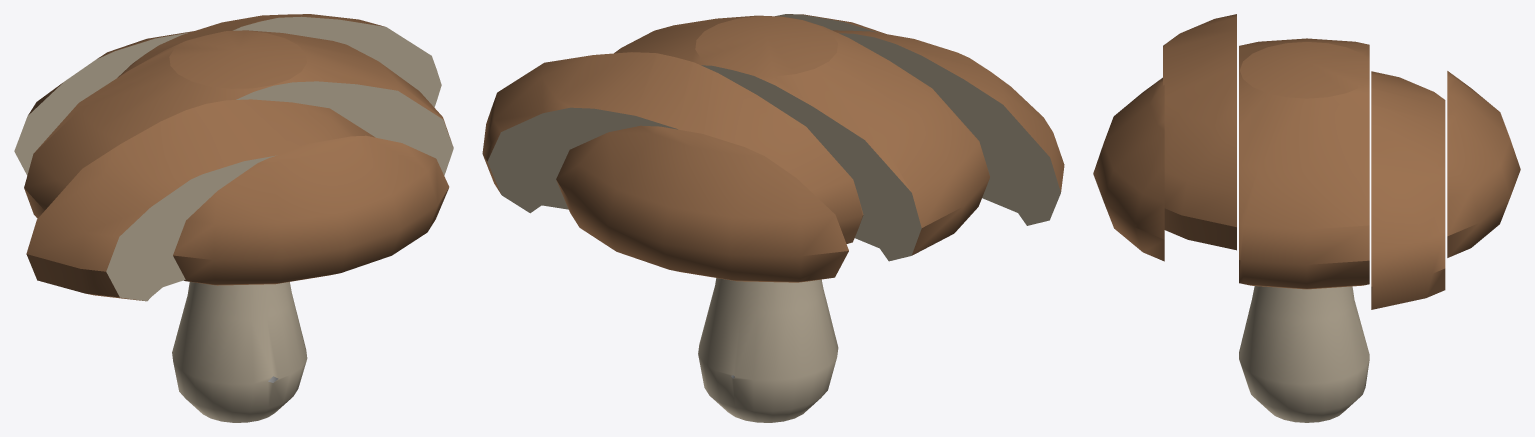
File: VerticallyCutMushroomFBX.fbx
3 renders of one model, left to right at view 1: azimuth 30°, elevation 25°; view 2: azimuth 150°, elevation 25°; view 3: azimuth 270°, elevation 25°, orthographic. The views are drawn at different scales.
Visible parts, largest first — view 1: pCube11, pCube10, pCube9, pCylinder12, pCube12; view 2: pCube11, pCube12, pCylinder12, pCube10, pCube9; view 3: pCube11, pCylinder12, pCube10, pCube12, pCube9.
Boxes of the visible parts, x1,y1,x2,y2 form: pCube11: (24,30,453,422); pCube10: (26,99,375,301); pCube9: (173,135,449,285); pCylinder12: (117,14,441,107); pCube12: (14,31,192,175); pCube11: (614,15,989,422); pCube12: (556,125,848,282); pCylinder12: (482,52,863,243); pCube10: (832,30,1064,225); pCube9: (775,14,885,33); pCube11: (1239,38,1369,422); pCylinder12: (1371,71,1445,309); pCube10: (1163,14,1236,250); pCube12: (1447,71,1520,257); pCube9: (1093,77,1164,261).
Size of the model in its own units: 2.21 by 1.59 by 1.74.
